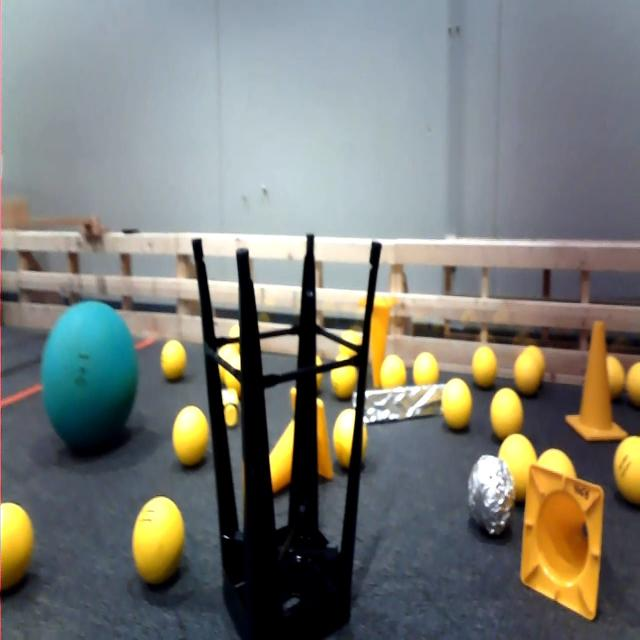fuel: (124, 481, 192, 606), (0, 472, 45, 606), (171, 385, 216, 490), (432, 354, 476, 443), (497, 429, 545, 501), (611, 426, 640, 514), (334, 414, 375, 476), (487, 381, 529, 441), (376, 348, 415, 408), (464, 332, 503, 391), (155, 335, 194, 390), (328, 348, 366, 399), (410, 344, 444, 400), (537, 436, 572, 488), (603, 342, 626, 404), (509, 350, 539, 394), (523, 338, 552, 374), (226, 349, 247, 391), (312, 346, 330, 394), (227, 317, 247, 358), (217, 338, 230, 385), (628, 363, 640, 409)
